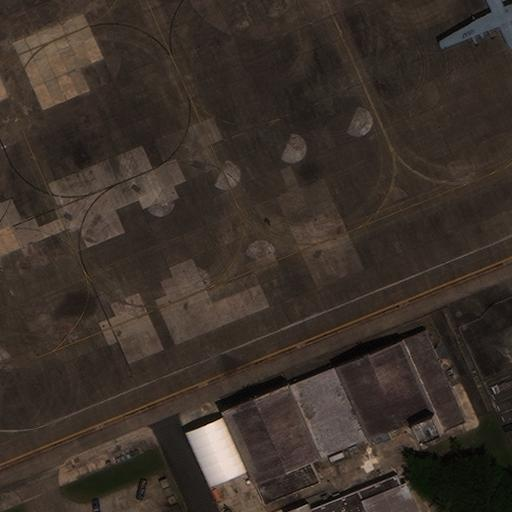Military Transport: (444, 0, 512, 52)
